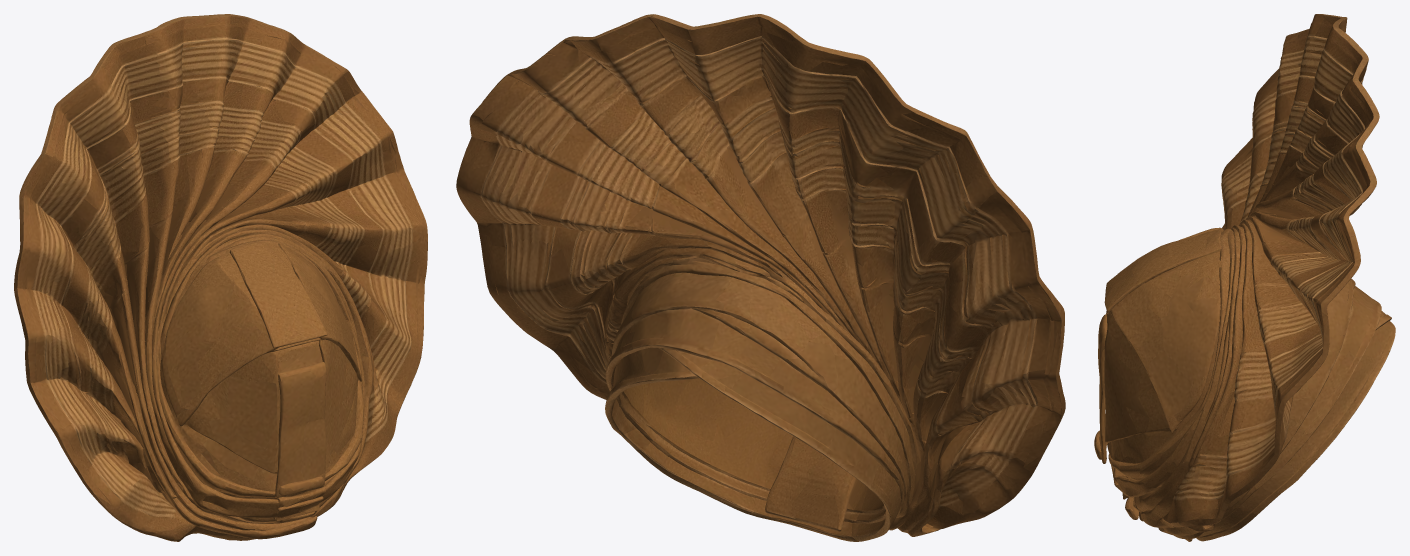
Rendered from gold-gele.glb.
The picture shows the model from 3 angles, left to right: view 1: azimuth 30°, elevation 25°; view 2: azimuth 150°, elevation 25°; view 3: azimuth 270°, elevation 25°; orthographic projection. The views are drawn at different scales.
Visible parts, largest first — view 1: Mesh_0; view 2: Mesh_0; view 3: Mesh_0.
Boxes of the visible parts, x1,y1,x2,y2 form: Mesh_0: (14,14,427,541); Mesh_0: (456,14,1065,541); Mesh_0: (1094,14,1395,541).
Bounding box in the file's own units: 23.73 × 24.47 × 13.83.
1 material, 1 textured.
